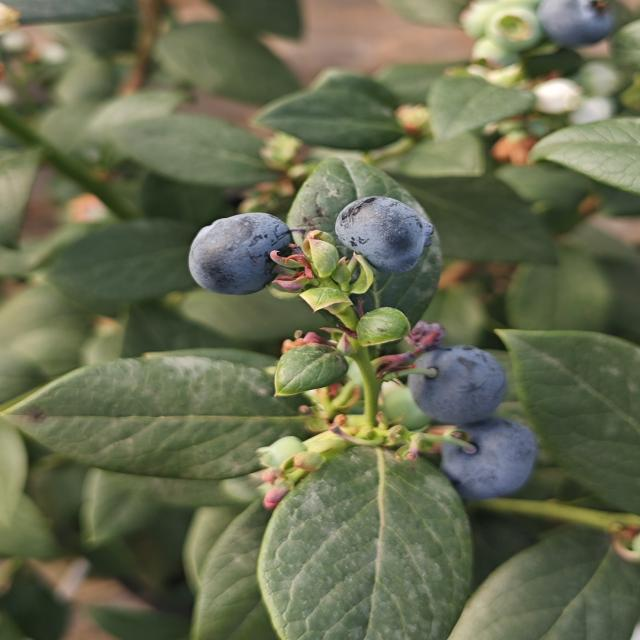ripe: (185, 210, 296, 298), (436, 416, 540, 502), (404, 343, 509, 427), (332, 194, 436, 276), (536, 0, 622, 50)
